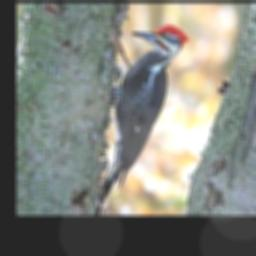Woodpecker: (98, 22, 190, 213)
